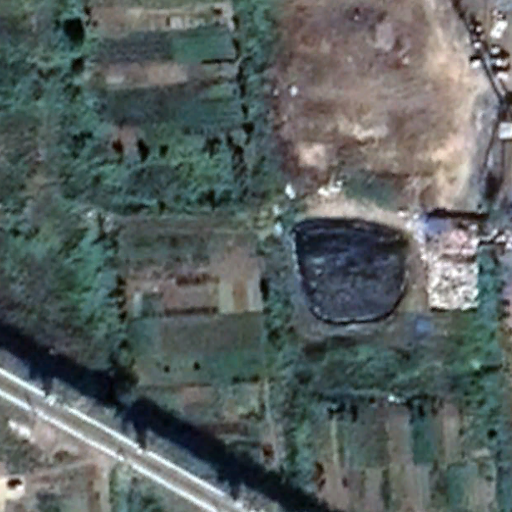msw: (428, 219, 480, 311)
